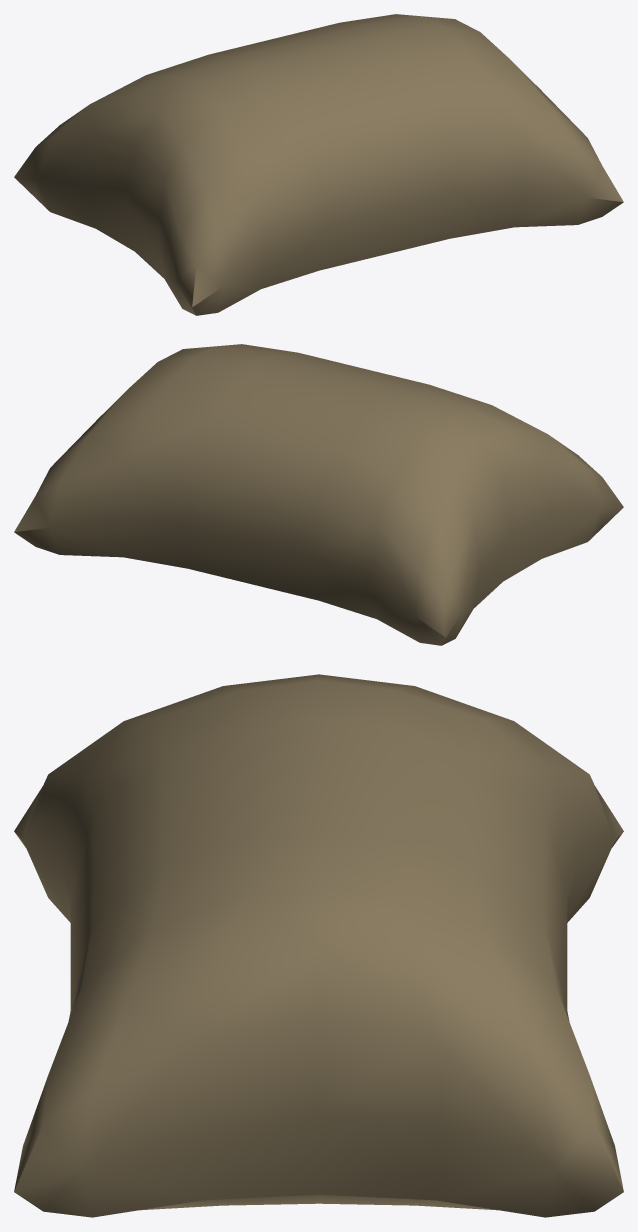
Rendered from Bag.gltf.
3 views of the same model, one above another, from view 1: azimuth 30°, elevation 25°; view 2: azimuth 150°, elevation 25°; view 3: azimuth 270°, elevation 25° (orthographic). The views are drawn at different scales.
Parts seen in each view (by area): view 1: Bag; view 2: Bag; view 3: Bag.
Part boxes in pixels (x1,y1,x2,y2): Bag: (14,14,623,315); Bag: (14,344,623,645); Bag: (14,674,623,1217).
Size of the model in its own units: 0.1535 by 0.0584 by 0.1096.
